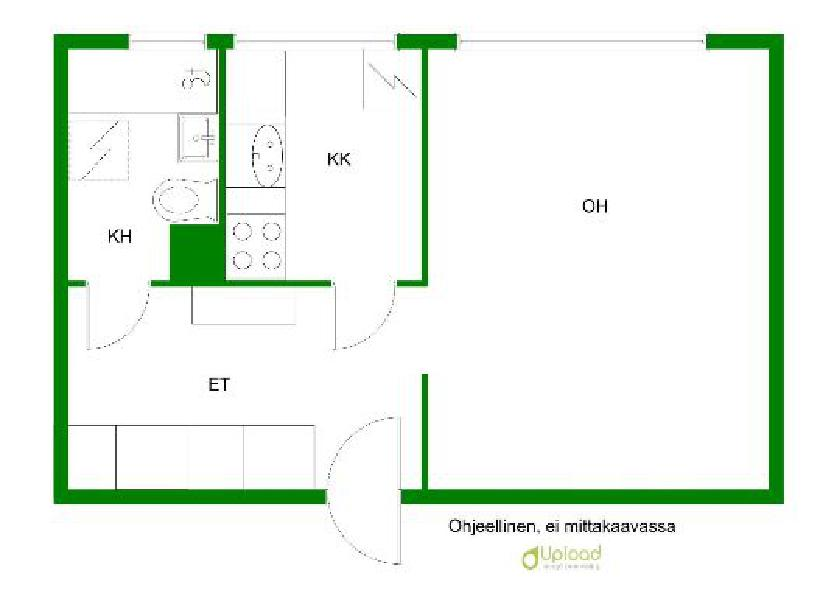door: (329, 413, 409, 570), (331, 276, 397, 355), (88, 281, 150, 349)
window: (456, 34, 706, 50), (234, 34, 394, 47), (129, 35, 204, 50)
zone: (69, 47, 769, 487), (225, 41, 420, 278), (68, 48, 220, 282)
